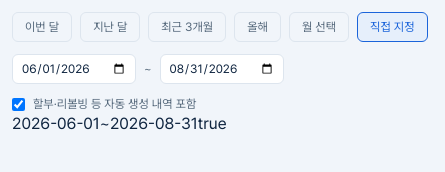
E. 월 선택 (#484) › E-8. 다른 프리셋에서 월 선택으로 넘어가면 보던 달이 잡힌다
Click the button "월 선택" at (319, 27), box left=289, top=12, right=349, bottom=42
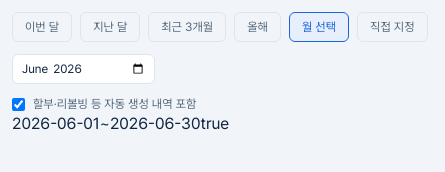
expect the text with test id "range" reads "2026-06-01~2026-06-30": met, box left=12, top=114, right=200, bottom=133
expect the field named "조회할 달" holds "2026-06": met, box left=12, top=54, right=155, bottom=84
